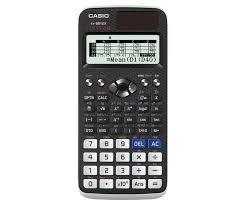Calculator: (71, 3, 178, 202)
